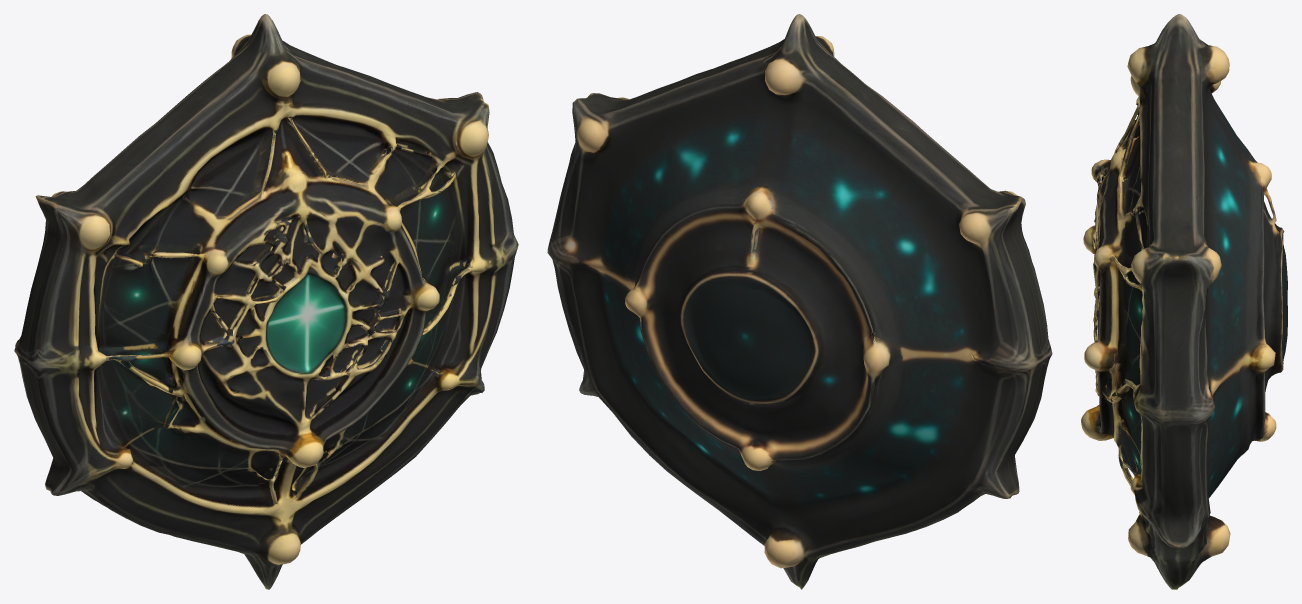
3 renders of one model, left to right at view 1: azimuth 30°, elevation 25°; view 2: azimuth 150°, elevation 25°; view 3: azimuth 270°, elevation 25°, orthographic.
Size of the model in its own units: 1.78 by 2 by 0.6507.
1 material, 1 textured.
